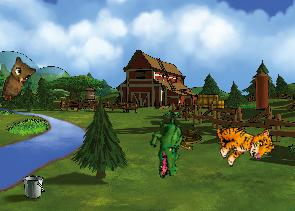crocodile: (142, 112, 194, 180)
owl: (0, 55, 38, 107)
tiger: (210, 110, 277, 172)
